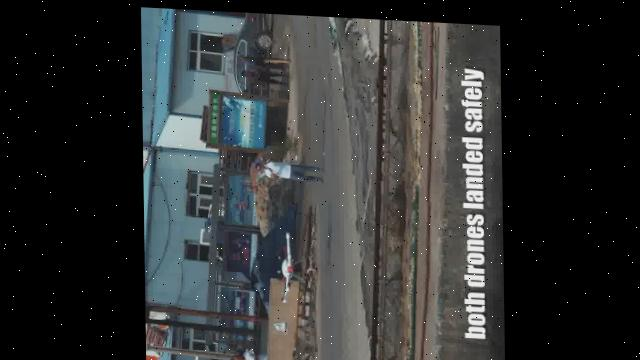drone: (270, 228, 302, 307)
